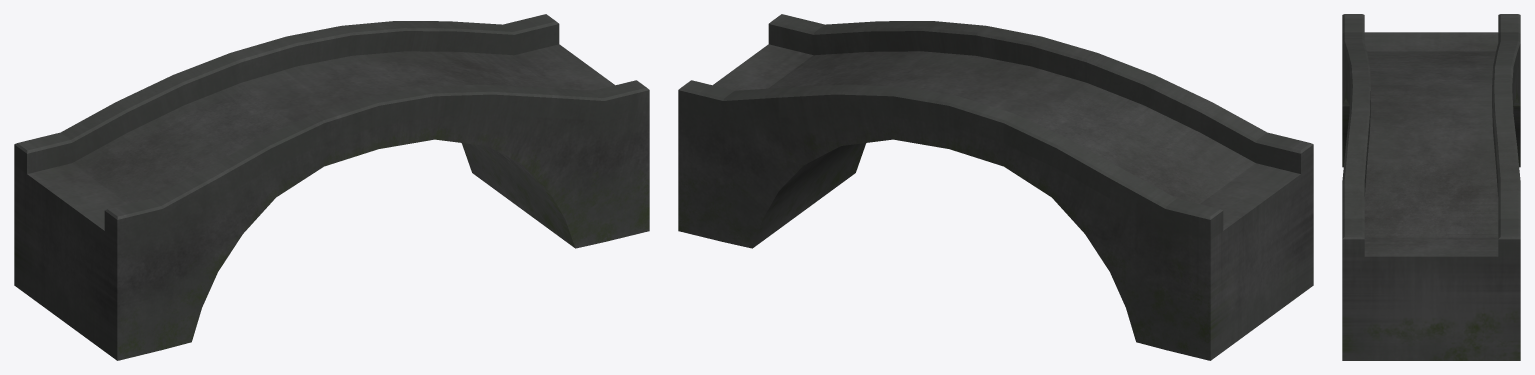
File: bridge.glb
The picture shows the model from 3 angles, left to right: view 1: azimuth 30°, elevation 25°; view 2: azimuth 150°, elevation 25°; view 3: azimuth 270°, elevation 25°; orthographic projection. The views are drawn at different scales.
Parts seen in each view (by area): view 1: Bridge; view 2: Bridge; view 3: Bridge.
Part boxes in pixels (left/top/right/bottom): Bridge: left=14, top=14, right=649, bottom=360; Bridge: left=678, top=14, right=1313, bottom=360; Bridge: left=1342, top=14, right=1520, bottom=360.
Bounding box in the file's own units: 3193 × 1080 × 1073.
Materials: 1 (1 with a texture image).
